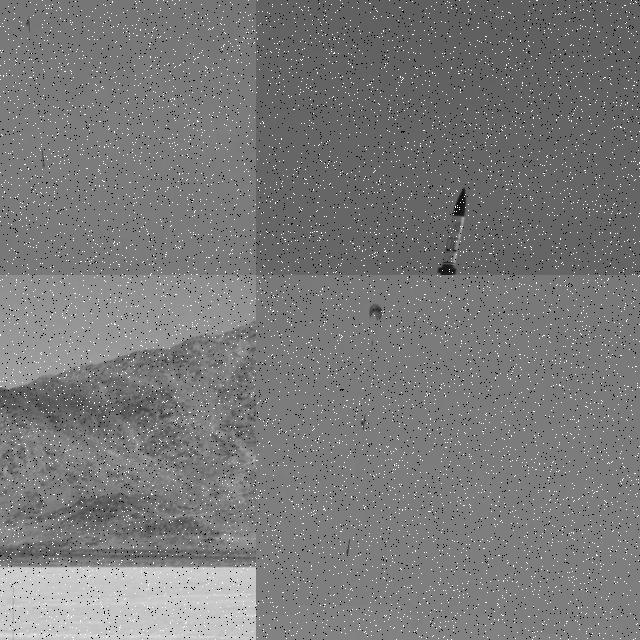Rocket: (413, 187, 471, 275), (41, 149, 46, 168), (346, 537, 350, 556)
